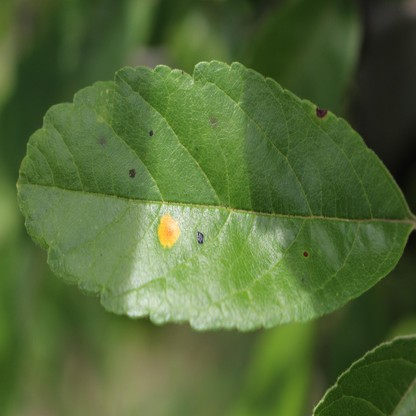rust: (158, 213, 179, 249), (315, 106, 326, 117), (303, 248, 309, 258)
